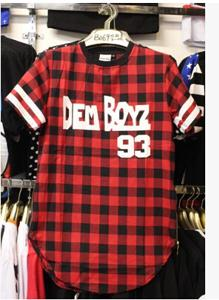C_T-shirt: (3, 35, 204, 298)
